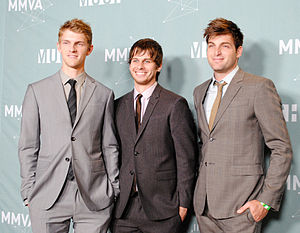person: (192, 17, 293, 231), (21, 22, 114, 232), (115, 37, 192, 231)
